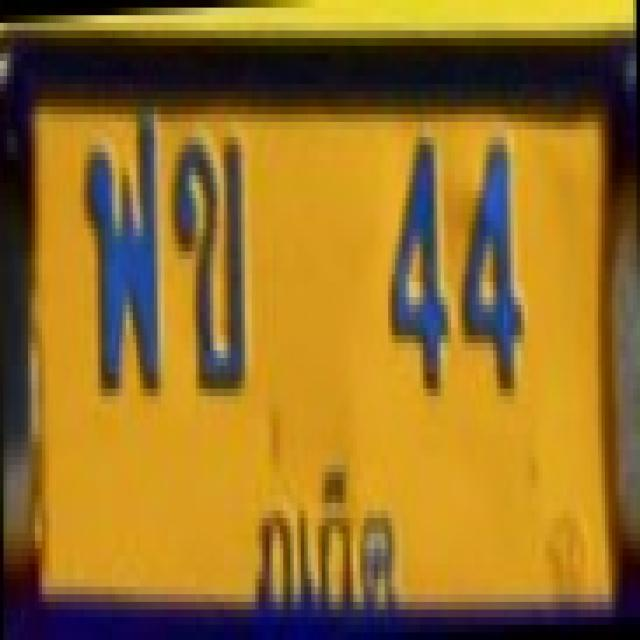4: (376, 120, 459, 420), (460, 108, 534, 406)
A02: (172, 113, 255, 424)
A31: (72, 108, 170, 408)
PKT: (236, 448, 418, 628)
